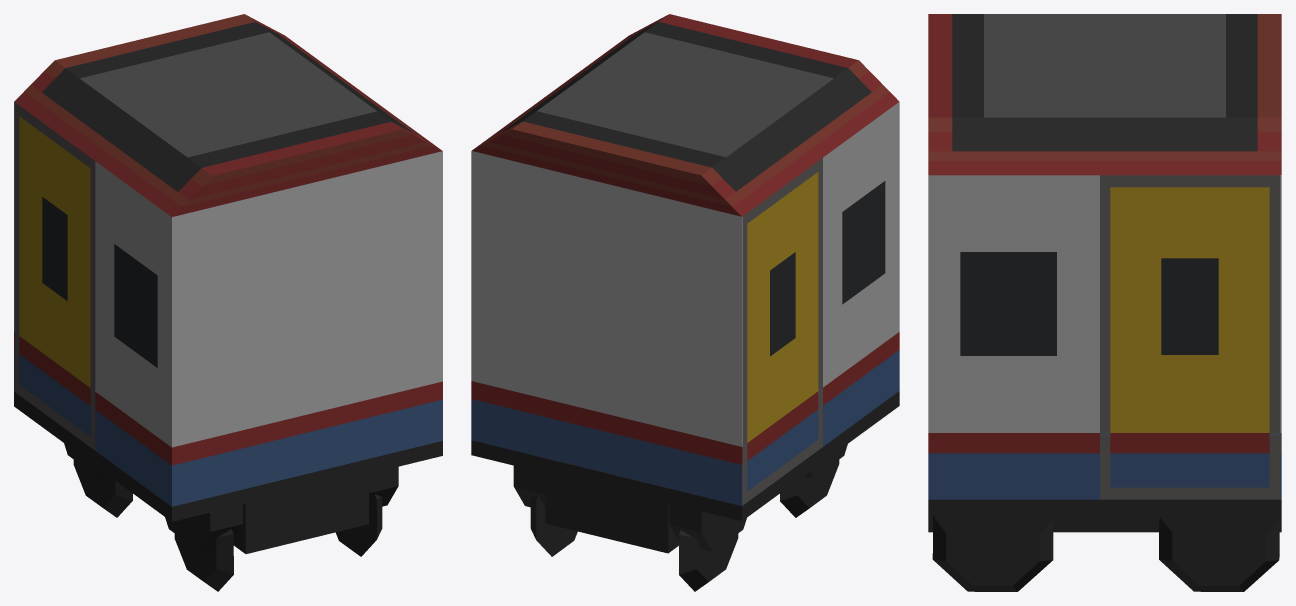
The model's file is vagon02.obj.
3 renders of one model, left to right at view 1: azimuth 30°, elevation 25°; view 2: azimuth 150°, elevation 25°; view 3: azimuth 270°, elevation 25°, orthographic. The views are drawn at different scales.
Parts seen in each view (by area): view 1: SM_Veh_Metro_01:Mesh; view 2: SM_Veh_Metro_01:Mesh; view 3: SM_Veh_Metro_01:Mesh.
Boxes of the visible parts, x1,y1,x2,y2 form: SM_Veh_Metro_01:Mesh: (14, 14, 442, 591); SM_Veh_Metro_01:Mesh: (471, 14, 899, 591); SM_Veh_Metro_01:Mesh: (928, 14, 1281, 591).
Size of the model in its own units: 4.86 by 7.46 by 4.9.
1 material, 1 textured.
